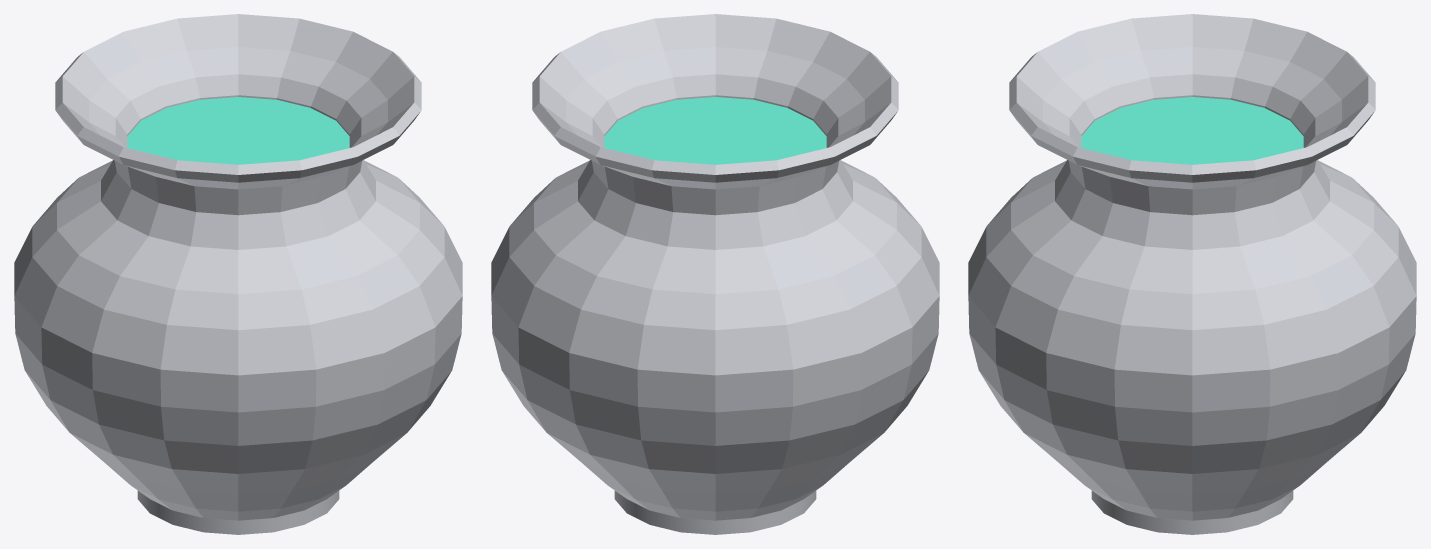
Rendered from Water.FBX.
The picture shows the model from 3 angles, left to right: view 1: azimuth 30°, elevation 25°; view 2: azimuth 150°, elevation 25°; view 3: azimuth 270°, elevation 25°; orthographic projection.
Visible parts, largest first — view 1: Cylinder001; view 2: Cylinder001; view 3: Cylinder001.
Boxes of the visible parts, x1,y1,x2,y2 form: Cylinder001: (14, 14, 462, 534); Cylinder001: (491, 14, 939, 534); Cylinder001: (968, 14, 1416, 534).
Bounding box in the file's own units: 84.33 × 83.05 × 82.24.
